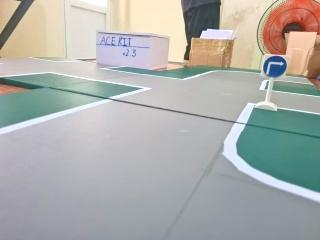right: (256, 52, 293, 85)
